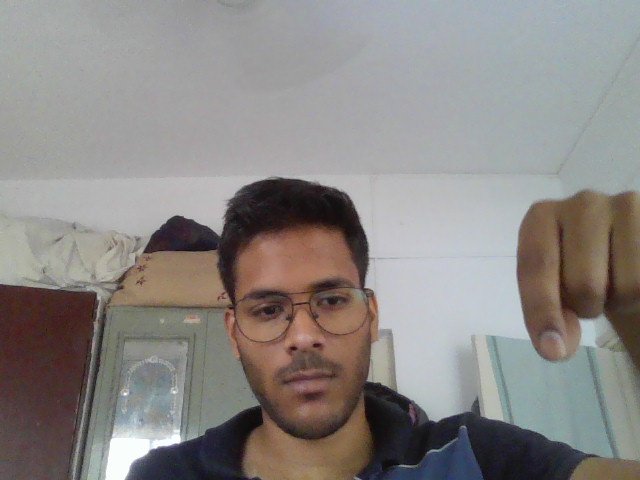yes: (507, 181, 640, 397)
